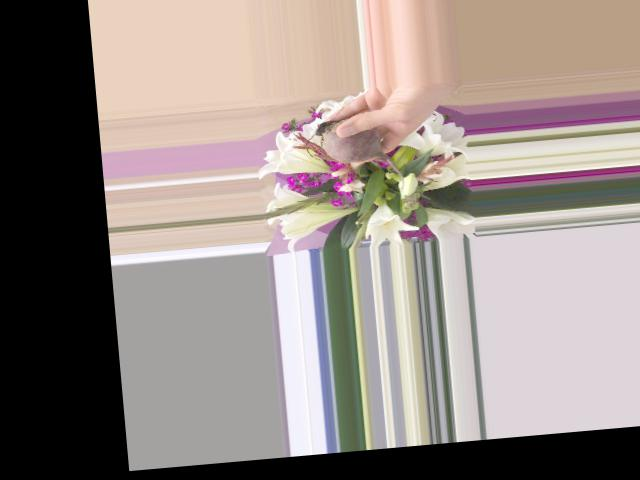beet: (303, 114, 404, 198)
